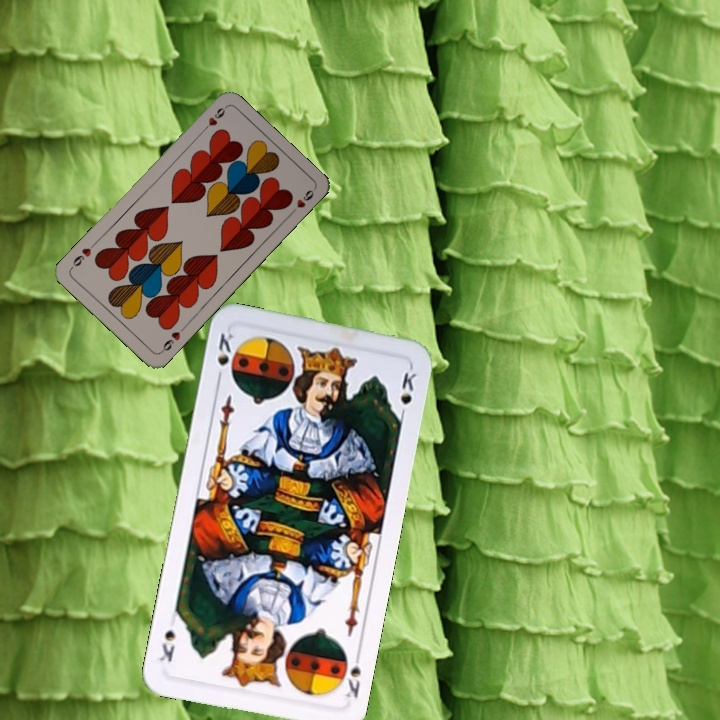H9: (197, 103, 229, 135), (156, 323, 187, 356)
SK: (213, 327, 236, 385), (342, 647, 364, 701)
